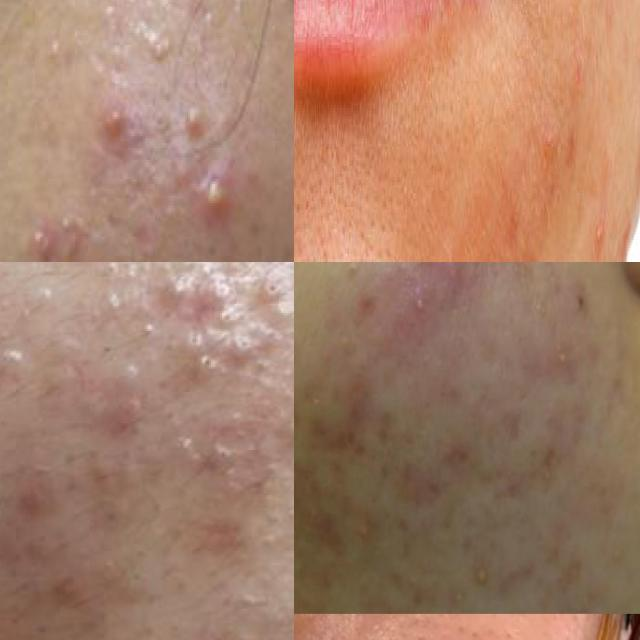acne_scars: (325, 380, 374, 474), (386, 458, 454, 519), (189, 510, 257, 554)
comedone: (178, 327, 281, 389), (28, 7, 85, 83), (175, 98, 213, 174), (117, 354, 154, 426), (204, 274, 248, 329), (549, 327, 589, 385), (0, 336, 42, 384), (209, 439, 250, 483), (130, 309, 172, 351), (346, 515, 389, 555), (331, 262, 371, 303), (461, 561, 502, 601), (144, 26, 178, 71), (54, 325, 90, 360), (94, 0, 148, 16), (602, 537, 629, 568), (280, 399, 294, 457), (258, 273, 282, 306)
papule: (49, 553, 101, 621), (0, 479, 58, 515), (437, 262, 478, 302), (406, 284, 434, 328), (212, 628, 249, 640)
pustule: (182, 172, 248, 244), (76, 95, 146, 143)
sebo-crystan-conglo: (38, 217, 69, 262)
